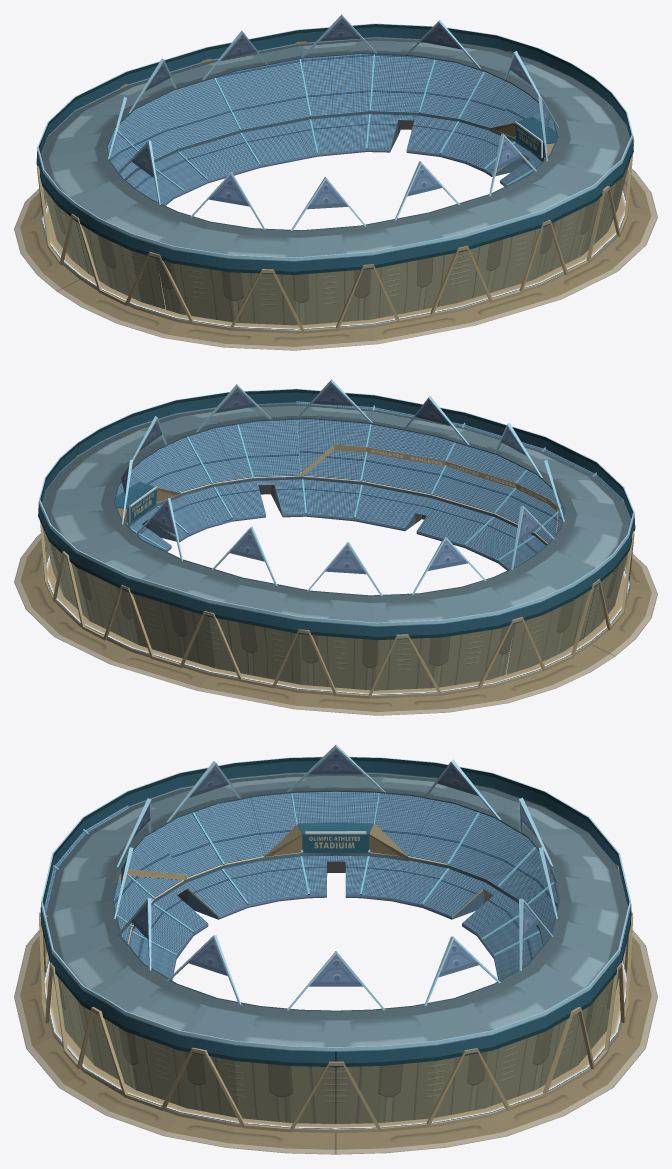
File: Stadium_Oval.FBX
3 views of the same model, one above another, from view 1: azimuth 30°, elevation 25°; view 2: azimuth 150°, elevation 25°; view 3: azimuth 270°, elevation 25° (orthographic). The views are drawn at different scales.
Parts seen in each view (by area): view 1: Stadium_Oval; view 2: Stadium_Oval; view 3: Stadium_Oval.
Part boxes in pixels (x1=…): Stadium_Oval: x1=14, y1=14, x2=657, y2=350; Stadium_Oval: x1=14, y1=379, x2=657, y2=715; Stadium_Oval: x1=14, y1=744, x2=657, y2=1154.
Size of the model in its own units: 3223 by 706 by 2792.
